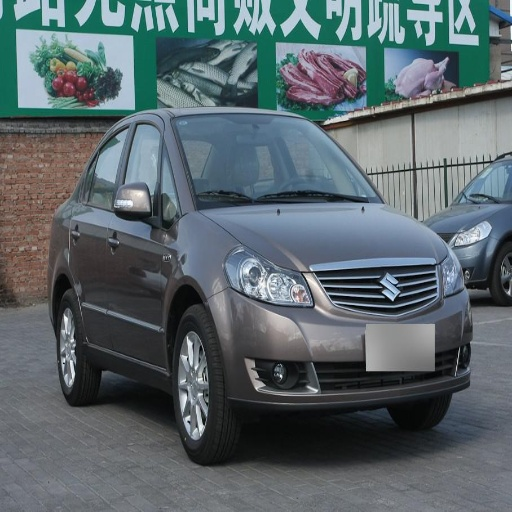front_bumper: (211, 260, 472, 409)
front_right_door: (105, 117, 176, 364)
front_right_light: (225, 245, 311, 306)
